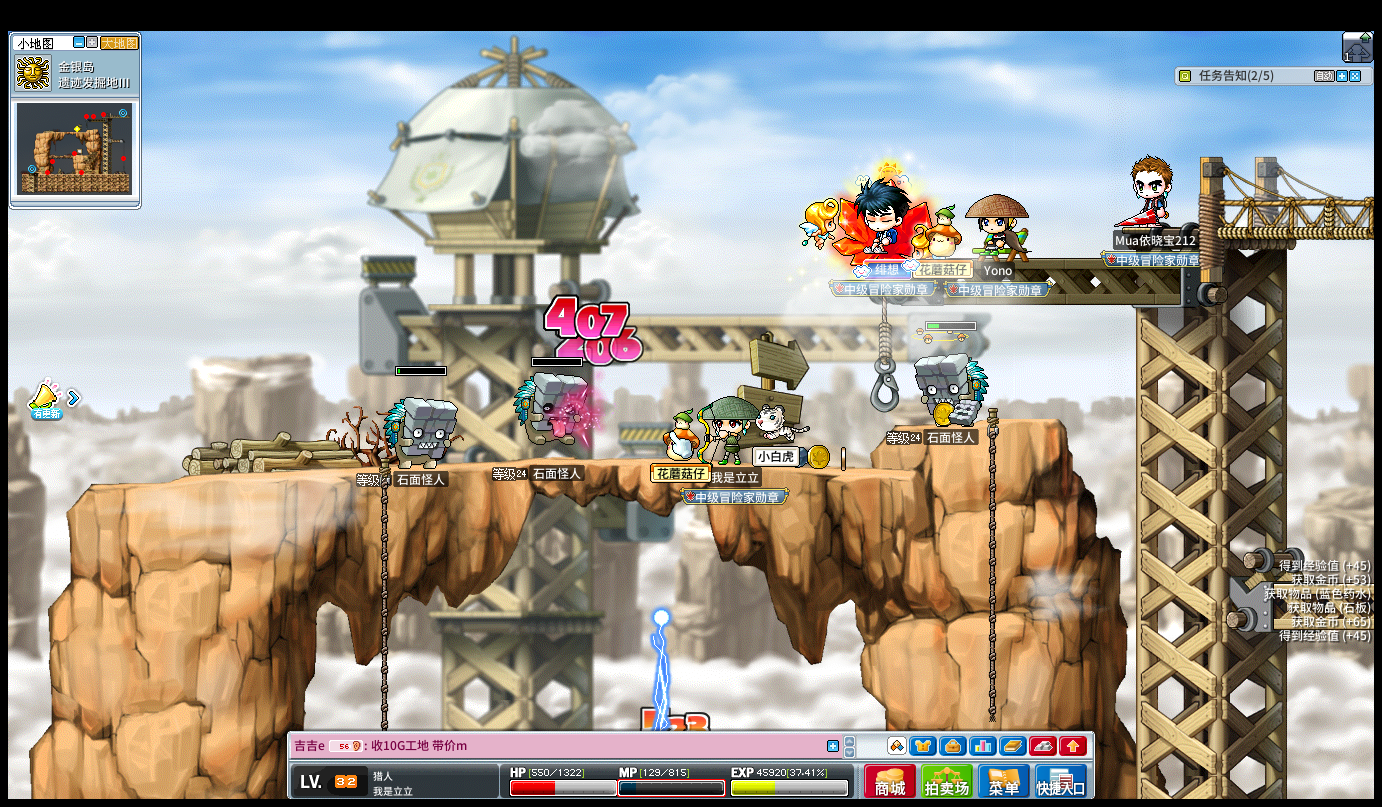floor: (74, 455, 966, 476), (883, 416, 1063, 431), (1271, 583, 1374, 594)
monster: (514, 372, 592, 458), (914, 353, 989, 425), (383, 395, 458, 466)
rope: (376, 451, 390, 792), (984, 412, 999, 719), (985, 612, 998, 717)
